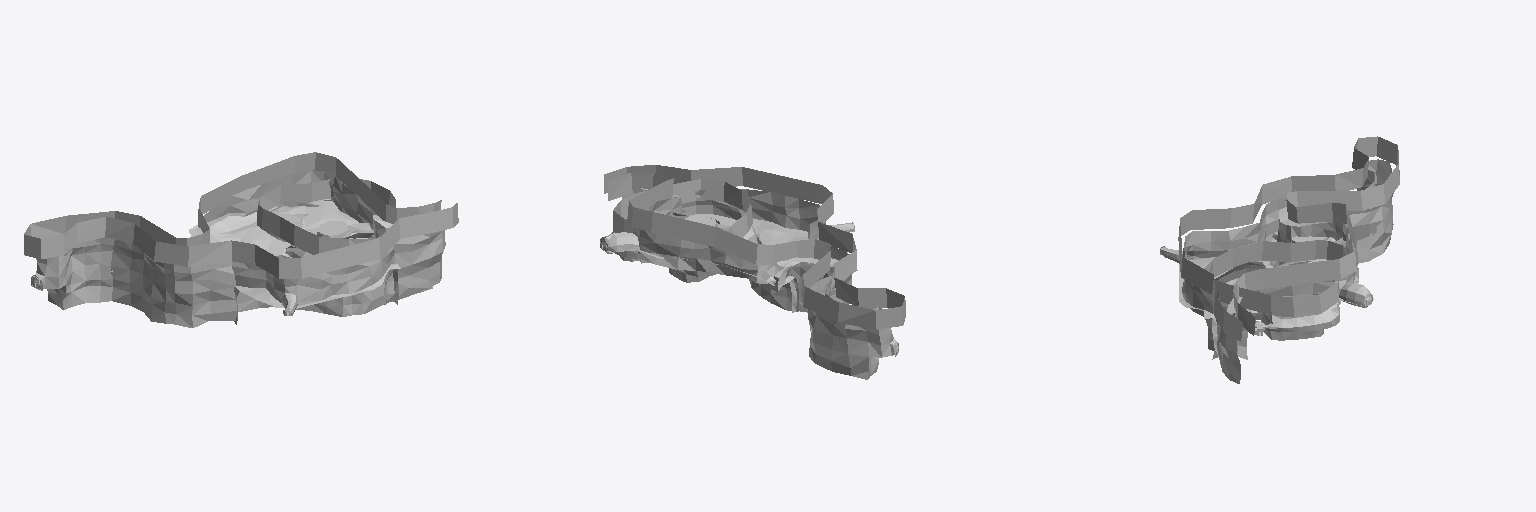
Rendered from main.obj.
The picture shows the model from 3 angles: view 1: azimuth 30°, elevation 25°; view 2: azimuth 150°, elevation 25°; view 3: azimuth 270°, elevation 25°; orthographic projection.
Visible parts, largest first — view 1: main.002, main.001; view 2: main.002, main.001; view 3: main.002, main.001.
Boxes of the visible parts, box(x1,y1,x2,y2) form: main.002: box(24, 152, 458, 327); main.001: box(257, 179, 395, 257); main.002: box(600, 165, 905, 379); main.001: box(611, 179, 757, 282); main.002: box(1160, 136, 1399, 383); main.001: box(1204, 240, 1348, 340).
Bounding box in the file's own units: 346 × 96.25 × 197.